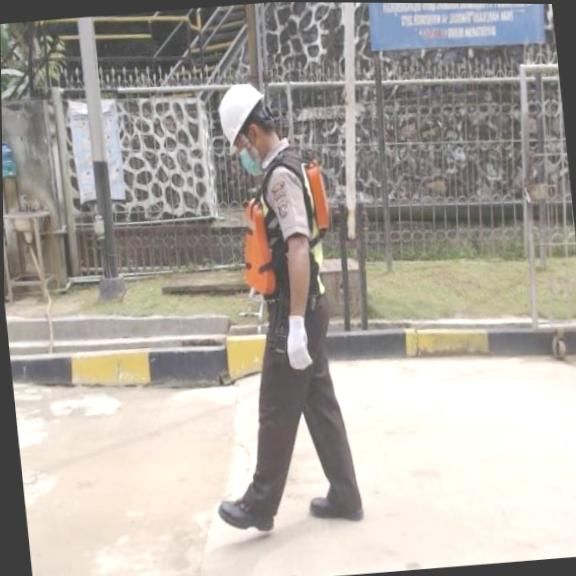safety_vest: (231, 162, 344, 297)
